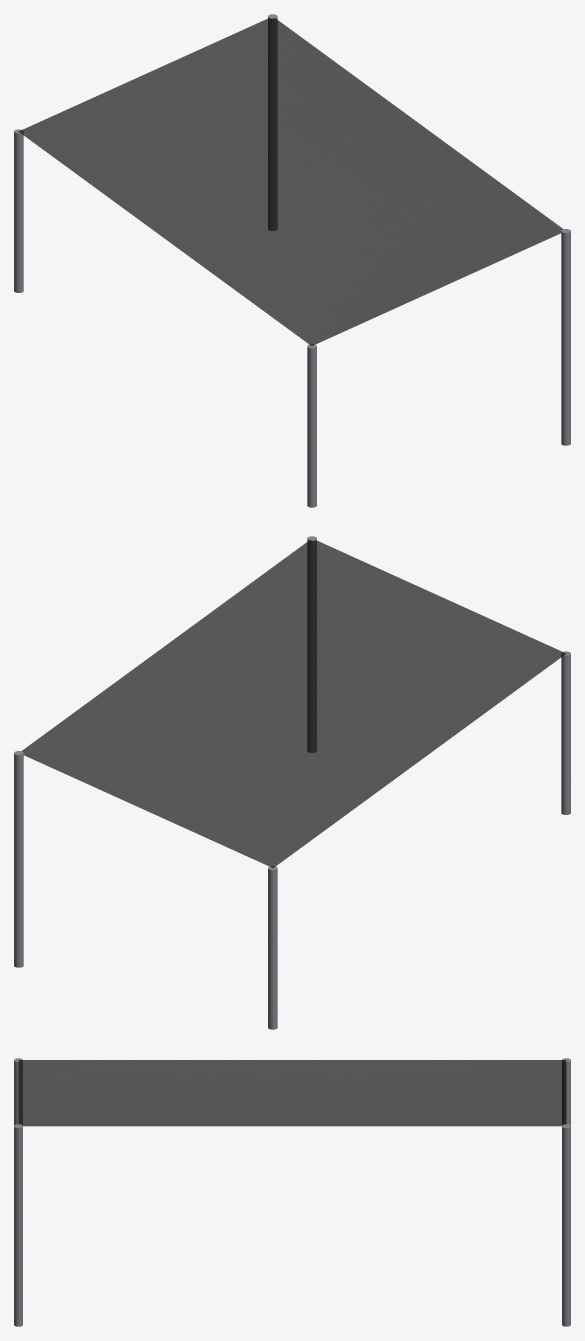
The model's file is ReshetTzelNearTower.gltf.
The picture shows the model from 3 angles, top to bottom: view 1: azimuth 30°, elevation 25°; view 2: azimuth 150°, elevation 25°; view 3: azimuth 270°, elevation 25°; orthographic projection. The views are drawn at different scales.
Parts seen in each view (by area): view 1: node2, node1; view 2: node2, node1; view 3: node2, node1.
Part boxes in pixels (box(x1,y1,x2,y2)): node2: box(18, 18, 563, 345); node1: box(14, 14, 570, 507); node2: box(21, 540, 566, 867); node1: box(14, 536, 570, 1029); node2: box(18, 1060, 566, 1126); node1: box(14, 1058, 570, 1326).
Bounding box in the file's own units: 3.1 × 2.4 × 6.1.
